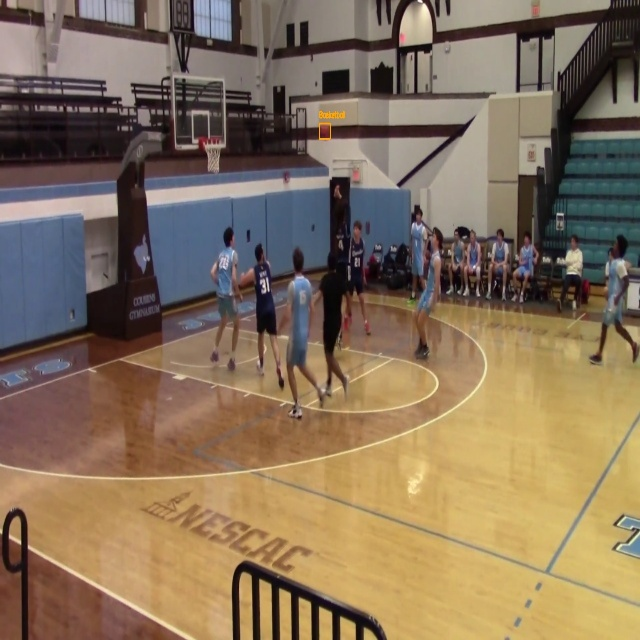Basketball: (319, 124, 330, 139)
